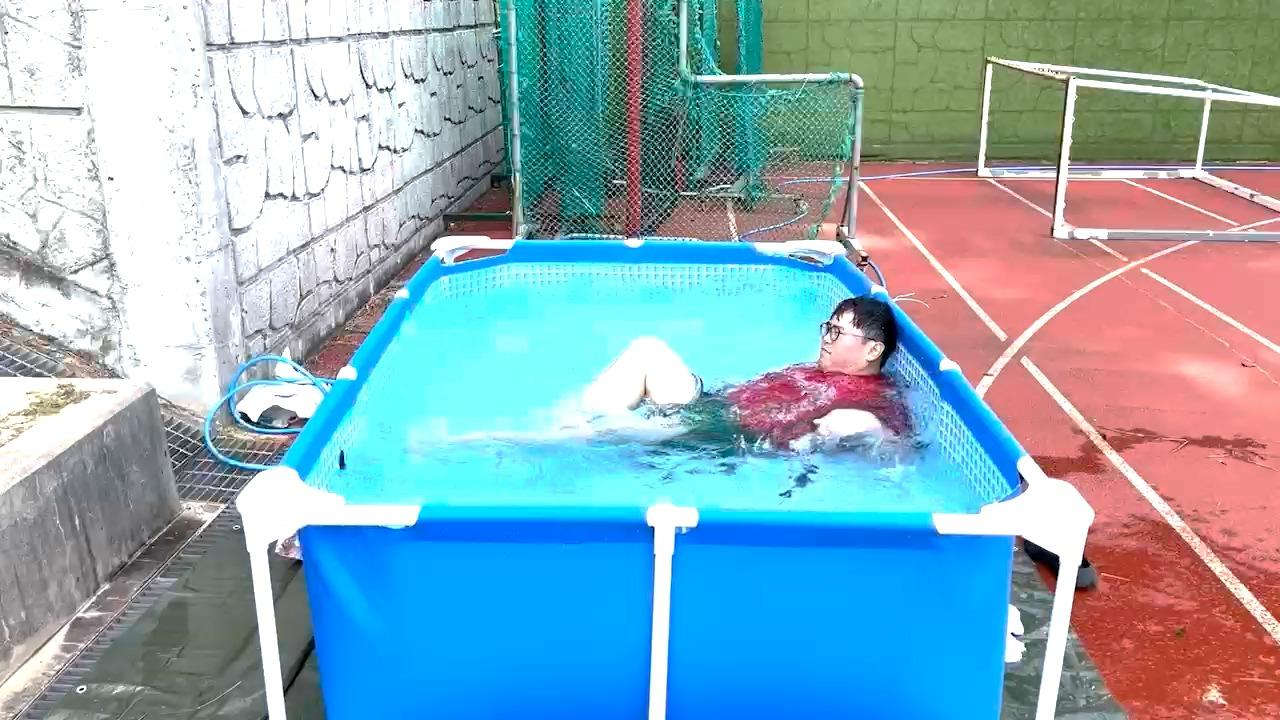Drowning: (533, 311, 891, 451)
